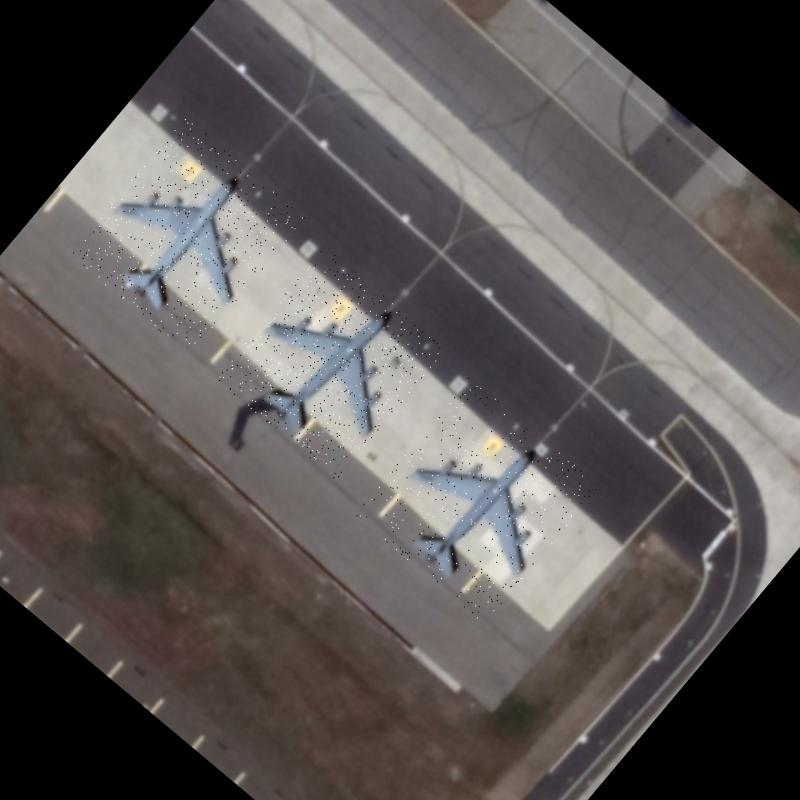A14: (352, 376, 600, 624), (68, 116, 305, 356), (213, 246, 446, 480)
